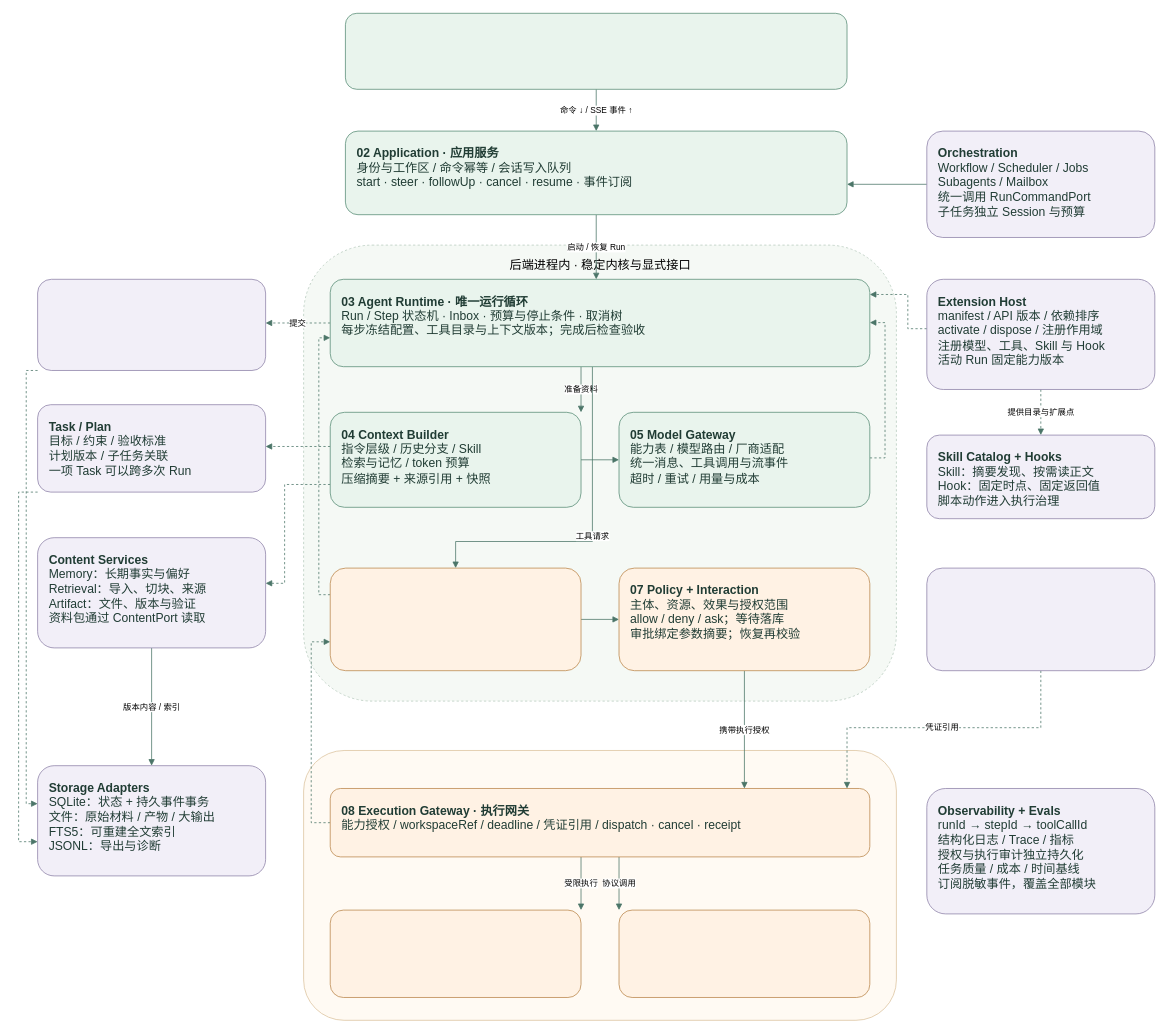
Some shapes in this 1168 by 1034 pixel diagram are drawn without their labels. The box of each missing label's shape, as (x1, y1, x2, y2) in pixels:
01 产品入口 · Web / CLI / SDK 对话与任务列表 · 运行进度 · 人工交互 · 产物预览与下载: (345, 13, 847, 89)
06 Tool System Registry / Schema / Hook 管线 最终参数冻结 / 资源锁 有界并发 / 结果归并与截断: (329, 567, 581, 671)
Credentials + Identity 本地身份 / 远端 OIDC 操作系统凭证库 / Secret 按调用范围注入凭证 原始密钥不进入上下文: (926, 567, 1155, 671)
Session / Run / Invocation 历史分支 / 运行检查点 调用意图 / 参数摘要 / 回执 每个 Session 单写者: (37, 279, 266, 370)
外部连接器 / MCP MCP stdio 或 Streamable HTTP HTTP API · 云端工具 返回结构化结果与外部回执: (618, 909, 870, 998)
执行 Worker / 容器 文件读写 · Shell · Playwright 进程回收 / 文件与网络隔离 主进程与执行环境分离: (329, 909, 581, 998)
执行边界 · 通过 ExecutionPort 更换环境: (303, 750, 896, 1020)
